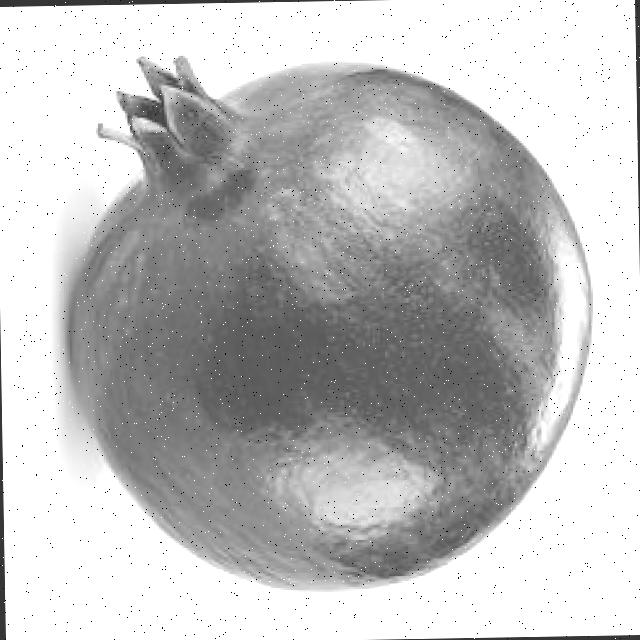Pomegranate: (62, 45, 603, 600)
